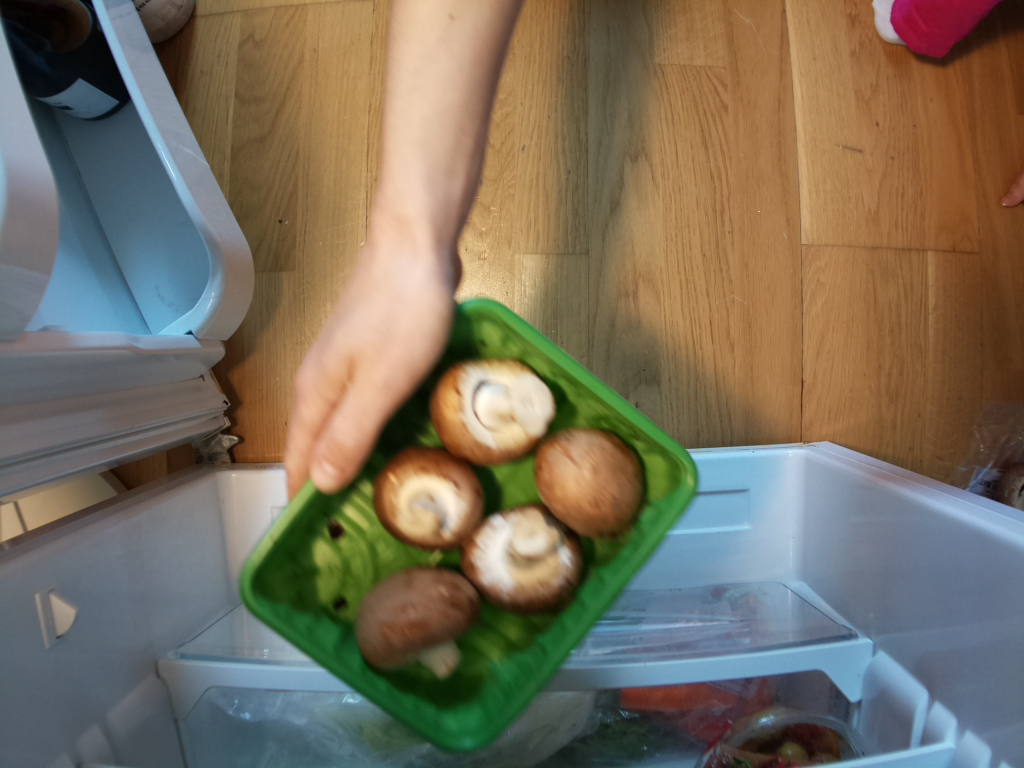mushrooms: (241, 295, 706, 758)
